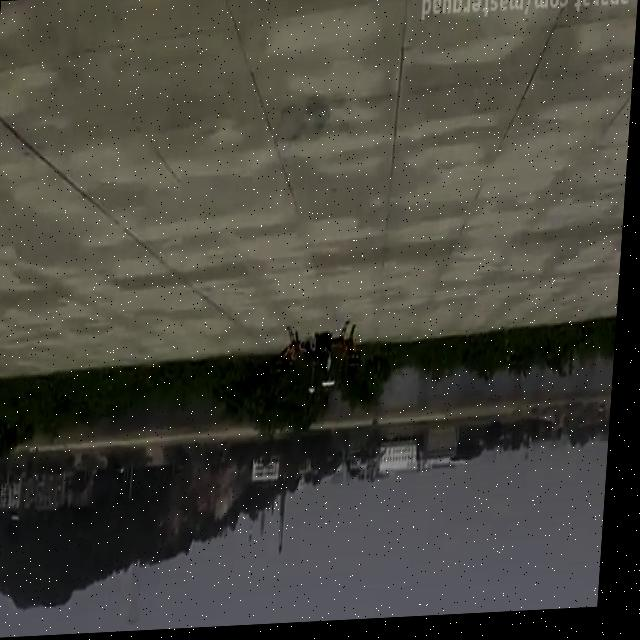drone: (273, 322, 369, 404)
